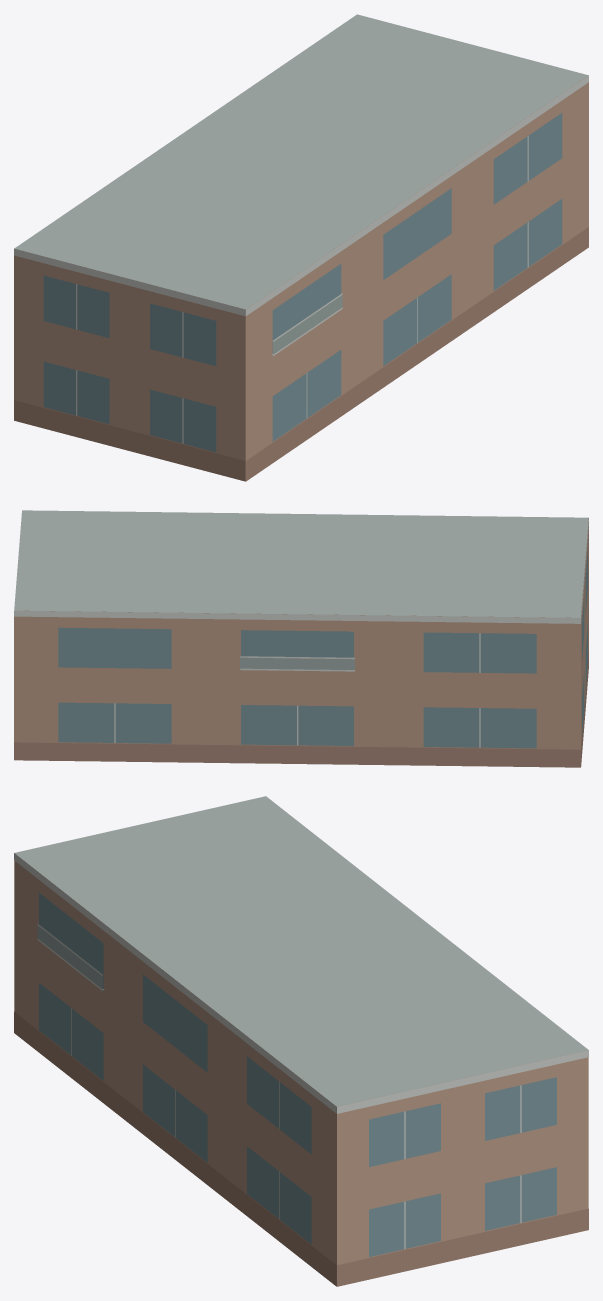
File: survey-upis-32704069.glb
3 views of the same model, one above another, from view 1: azimuth 30°, elevation 25°; view 2: azimuth 150°, elevation 25°; view 3: azimuth 270°, elevation 25° (orthographic). The views are drawn at different scales.
Parts seen in each view (by area): view 1: survey-upis-32704069.tmp; view 2: survey-upis-32704069.tmp; view 3: survey-upis-32704069.tmp.
Part boxes in pixels (left/top/right/bottom): survey-upis-32704069.tmp: left=14, top=14, right=588, bottom=481; survey-upis-32704069.tmp: left=14, top=510, right=588, bottom=767; survey-upis-32704069.tmp: left=14, top=796, right=588, bottom=1286.
Bounding box in the file's own units: 22.59 × 6.1 × 17.66.
